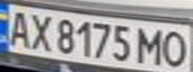1: (72, 18, 93, 57)
5: (112, 21, 136, 63)
7: (90, 19, 115, 60)
8: (51, 16, 75, 55)
A: (3, 7, 33, 48)
M: (136, 25, 169, 65)
O: (160, 27, 190, 69)
X: (24, 10, 54, 52)
